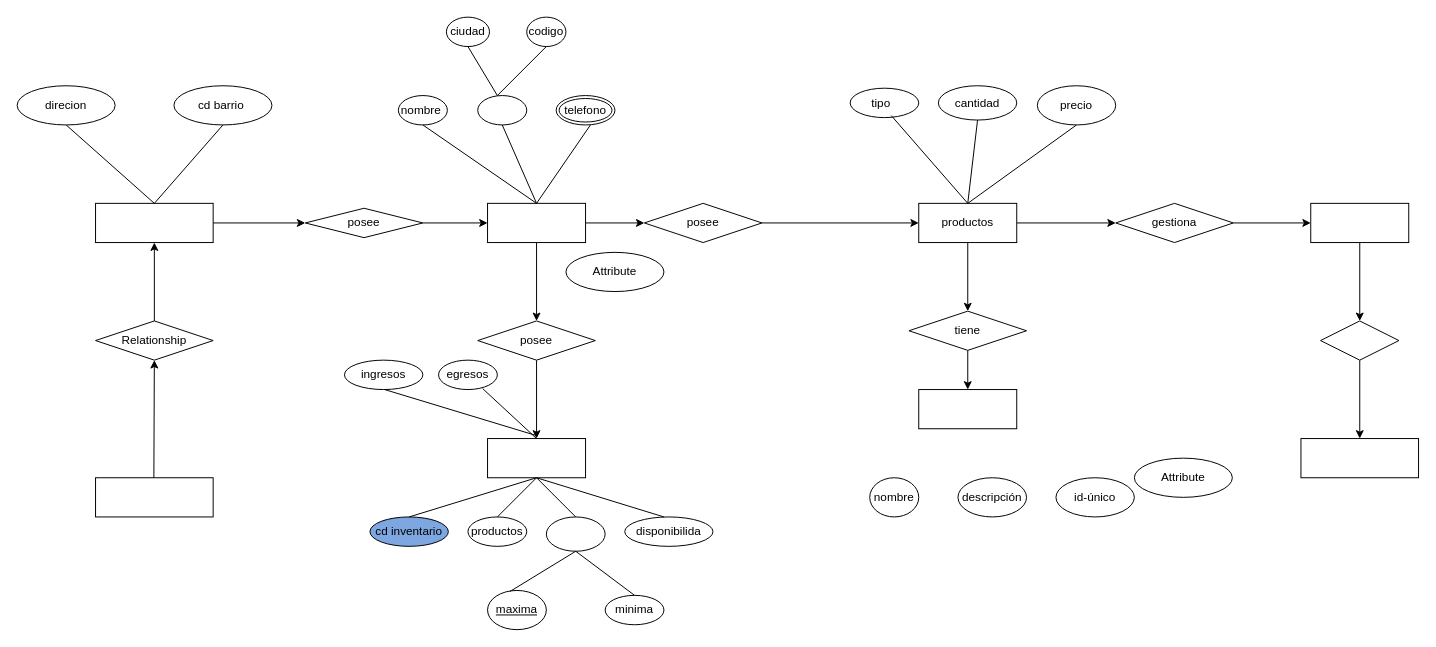
The diagram is 1436 pixels wide and 647 high, and some of its shapes have lost their labels. Each missing label, with the box of its shape:
barrio: (95, 202, 213, 243)
categorias: (918, 389, 1017, 429)
ciuda: (95, 477, 213, 517)
cliente: (1300, 438, 1419, 478)
direccion: (477, 95, 527, 125)
inventario: (487, 438, 586, 478)
mercancía: (545, 516, 605, 551)
tiendas: (487, 202, 586, 243)
ventas: (1310, 202, 1409, 243)
